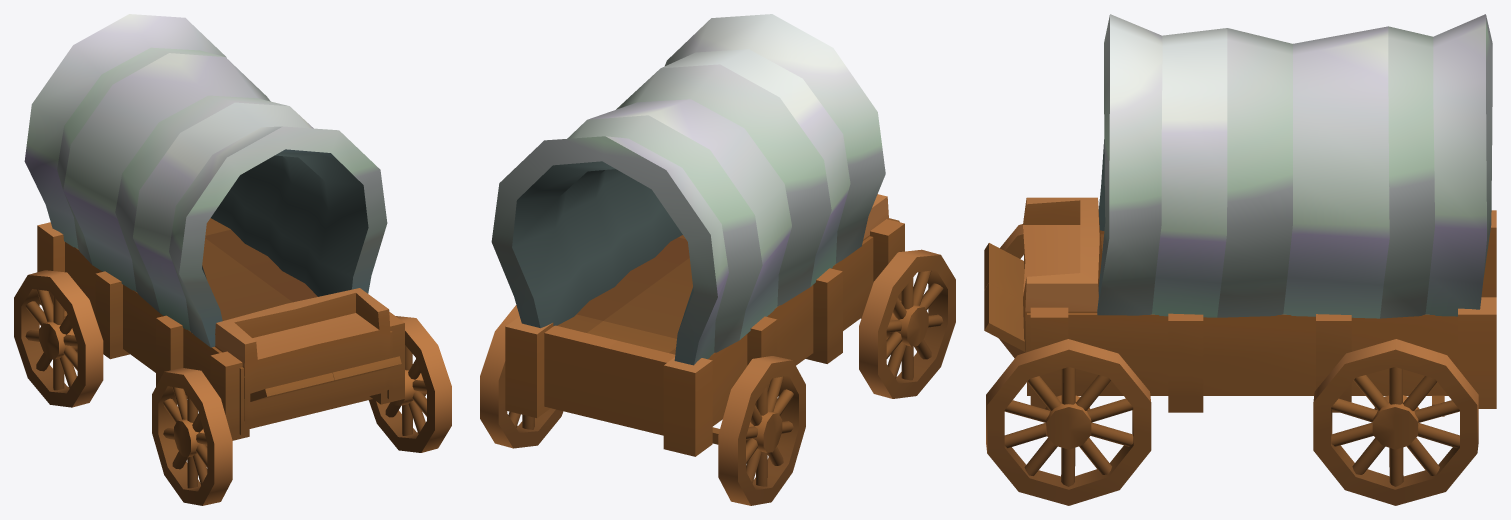
File: desert-cart.obj
3 views of the same model, side by side, from view 1: azimuth 30°, elevation 25°; view 2: azimuth 150°, elevation 25°; view 3: azimuth 270°, elevation 25° (orthographic). The views are drawn at different scales.
Visible parts, largest first — view 1: desert-cart; view 2: desert-cart; view 3: desert-cart.
Boxes of the visible parts, box(x1,y1,x2,y2) form: desert-cart: box(14, 14, 451, 505); desert-cart: box(480, 14, 955, 505); desert-cart: box(984, 14, 1496, 505).
Size of the model in its own units: 2.65 by 3.56 by 4.03.
1 material, 1 textured.
